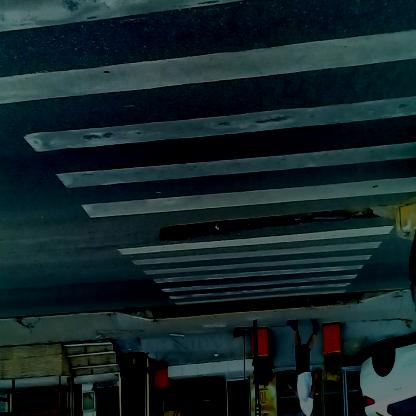crosswalk: (27, 2, 395, 293)
sidewalk: (9, 287, 416, 346)
